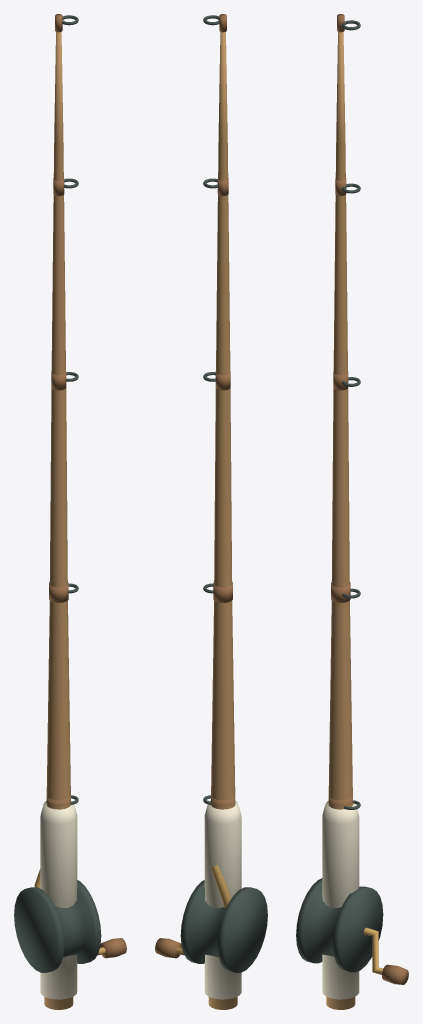
File: fishing-rod.glb
3 views of the same model, side by side, from view 1: azimuth 30°, elevation 25°; view 2: azimuth 150°, elevation 25°; view 3: azimuth 330°, elevation 25° (orthographic).
Parts seen in each view (by area): view 1: bamboo rod.001, reel drum.001, cork grip.001, reel grip.001, cane binding.006; view 2: bamboo rod.001, reel drum.001, cork grip.001, reel grip.001, reel mounting.001, cane binding.006; view 3: bamboo rod.001, reel drum.001, cork grip.001, reel grip.001, reel crank.001, cane binding.006.
Part boxes in pixels (left/top/right/bottom): bamboo rod.001: left=44, top=32, right=73, bottom=1009; reel drum.001: left=14, top=880, right=101, bottom=972; cork grip.001: left=40, top=801, right=77, bottom=999; reel grip.001: left=100, top=938, right=126, bottom=958; cane binding.006: left=49, top=582, right=68, bottom=602; bamboo rod.001: left=208, top=32, right=237, bottom=1009; reel drum.001: left=180, top=880, right=267, bottom=972; cork grip.001: left=204, top=801, right=241, bottom=999; reel grip.001: left=155, top=938, right=181, bottom=958; reel mounting.001: left=210, top=865, right=231, bottom=907; cane binding.006: left=213, top=582, right=232, bottom=602; bamboo rod.001: left=326, top=32, right=355, bottom=1009; reel drum.001: left=296, top=878, right=383, bottom=972; cork grip.001: left=322, top=801, right=359, bottom=999; reel grip.001: left=382, top=964, right=408, bottom=984; reel crank.001: left=363, top=927, right=383, bottom=974; cane binding.006: left=331, top=582, right=350, bottom=602.
Bounding box in the file's own units: 0.151 × 1.64 × 0.13.
